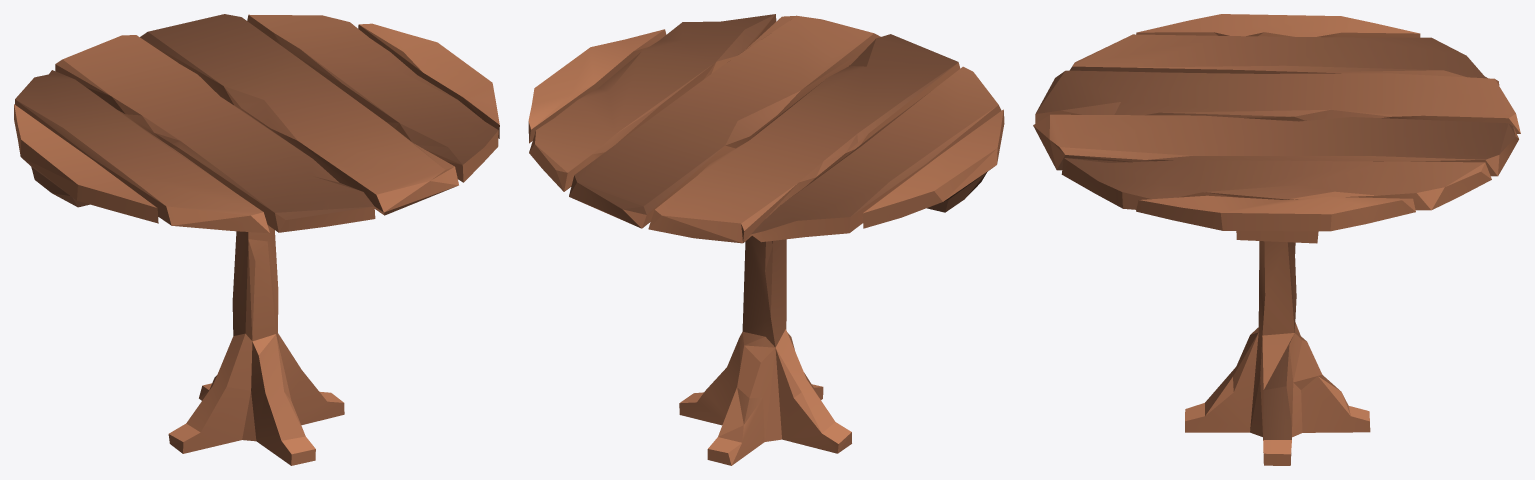
Rendered from table1Shabby.fbx.
3 views of the same model, side by side, from view 1: azimuth 30°, elevation 25°; view 2: azimuth 150°, elevation 25°; view 3: azimuth 270°, elevation 25° (orthographic).
Parts seen in each view (by area): view 1: table1Shabby; view 2: table1Shabby; view 3: table1Shabby.
Boxes of the visible parts, x1,y1,x2,y2 form: table1Shabby: [14, 14, 499, 465]; table1Shabby: [528, 14, 1004, 465]; table1Shabby: [1033, 14, 1520, 465].
Bounding box in the file's own units: 156 × 115 × 160.
